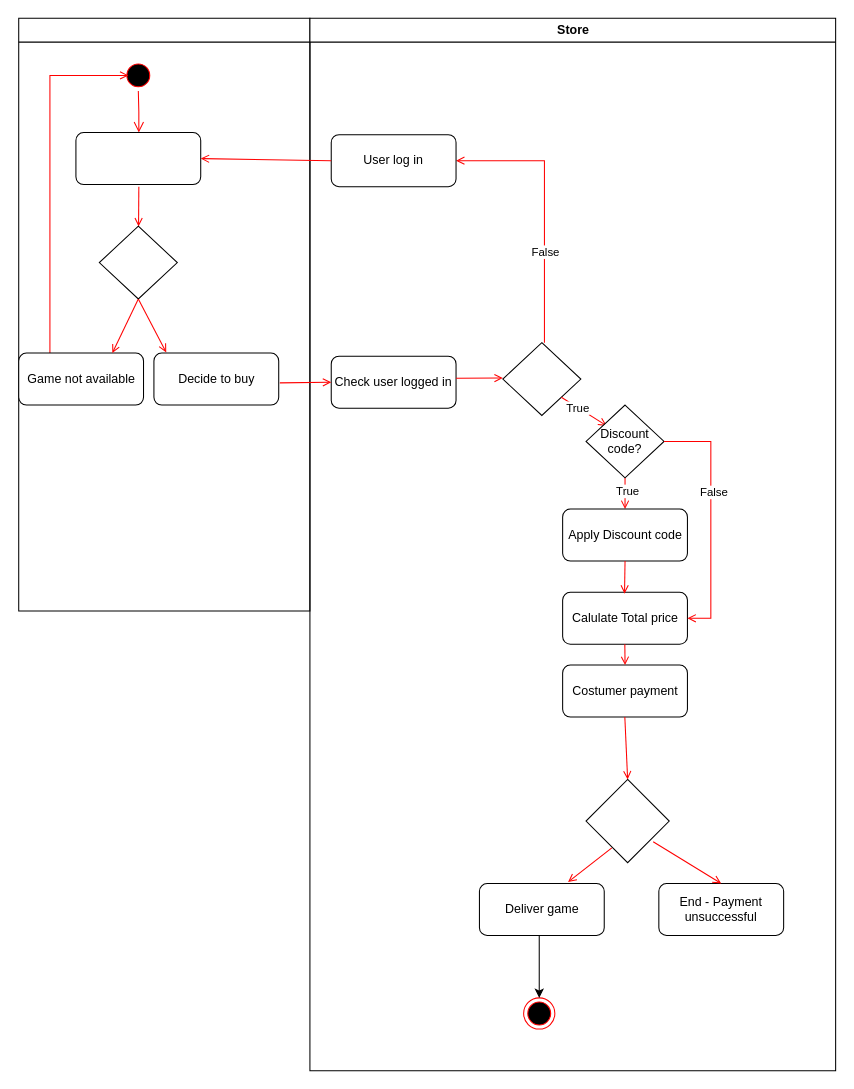
The diagram is 854 pixels wide and 1089 high, and some of its shapes have lost their labels. Here are the shapes that lost their labels. From the top down, the box of each, then its label:
(75, 132, 201, 185): Check Game Availablility
(98, 225, 177, 299): Decision
(18, 17, 310, 611): Costumer
(502, 342, 581, 415): Is logged in?
(585, 778, 669, 863): Successful?
